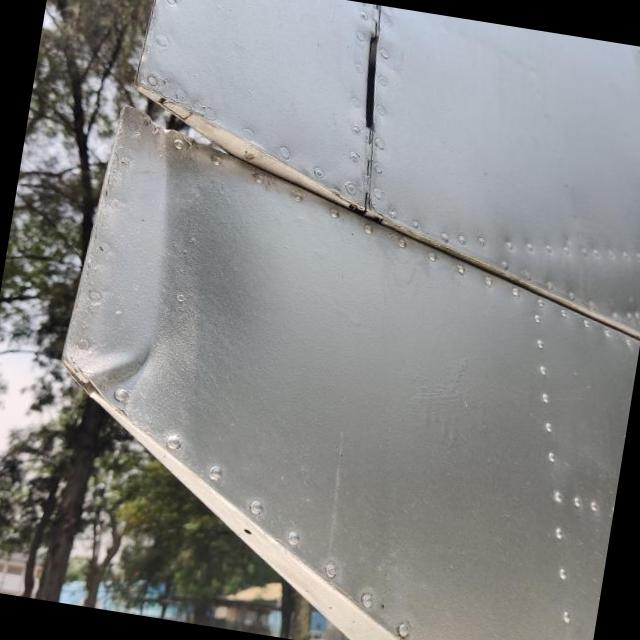Dent: (64, 334, 153, 403)
